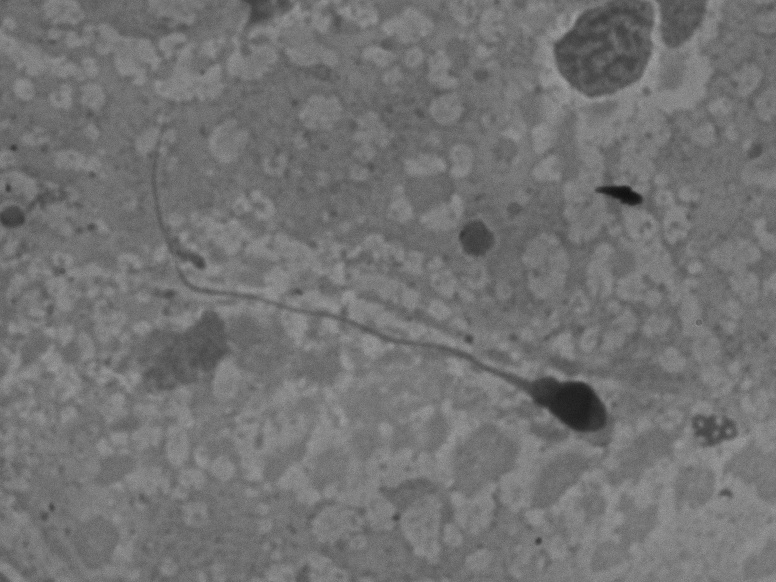Abnormal: (137, 191, 619, 466)
